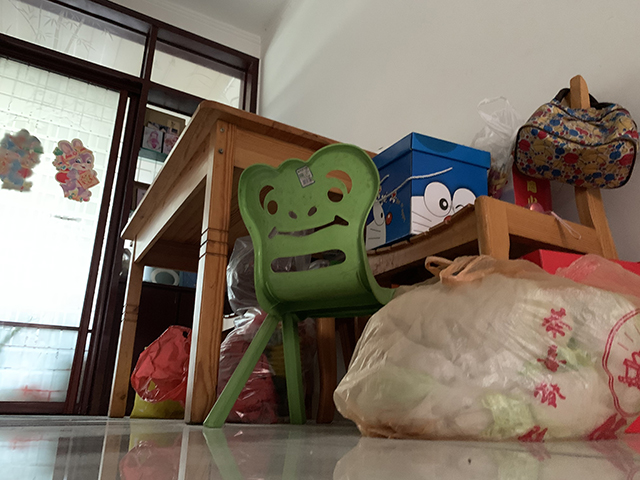stool: (199, 142, 397, 429)
table: (106, 100, 379, 425)
